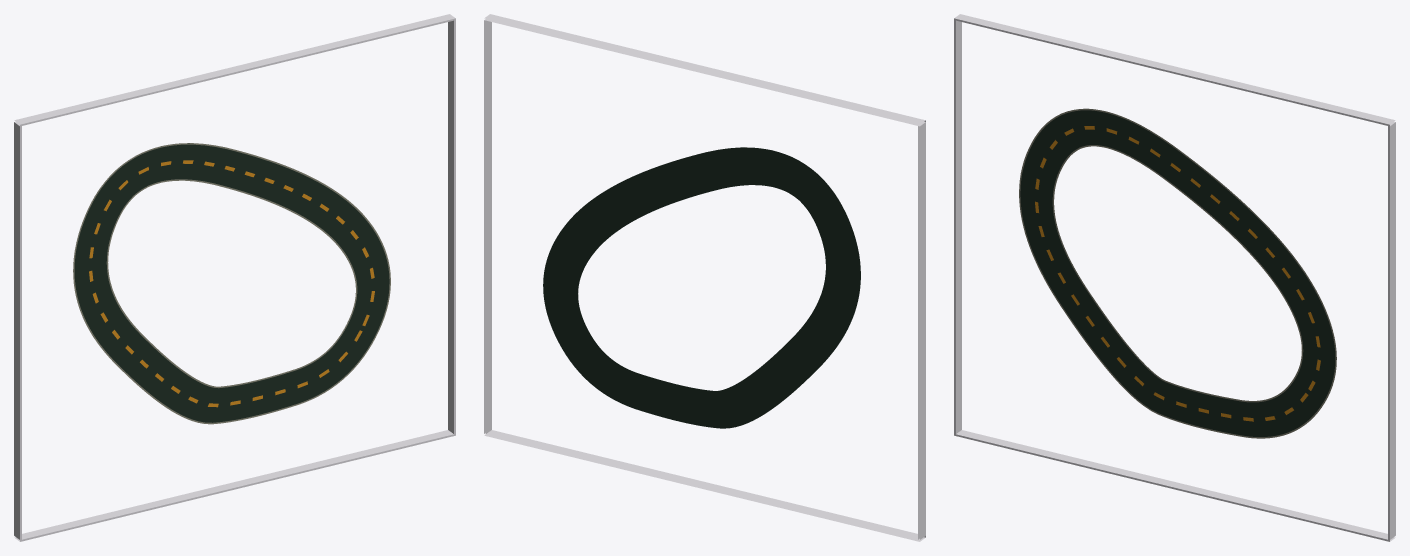
File: track.obj
The picture shows the model from 3 angles, left to right: view 1: azimuth 30°, elevation 25°; view 2: azimuth 150°, elevation 25°; view 3: azimuth 330°, elevation 25°; orthographic projection.
Bounding box in the file's own units: 12.64 × 11.57 × 0.3.
